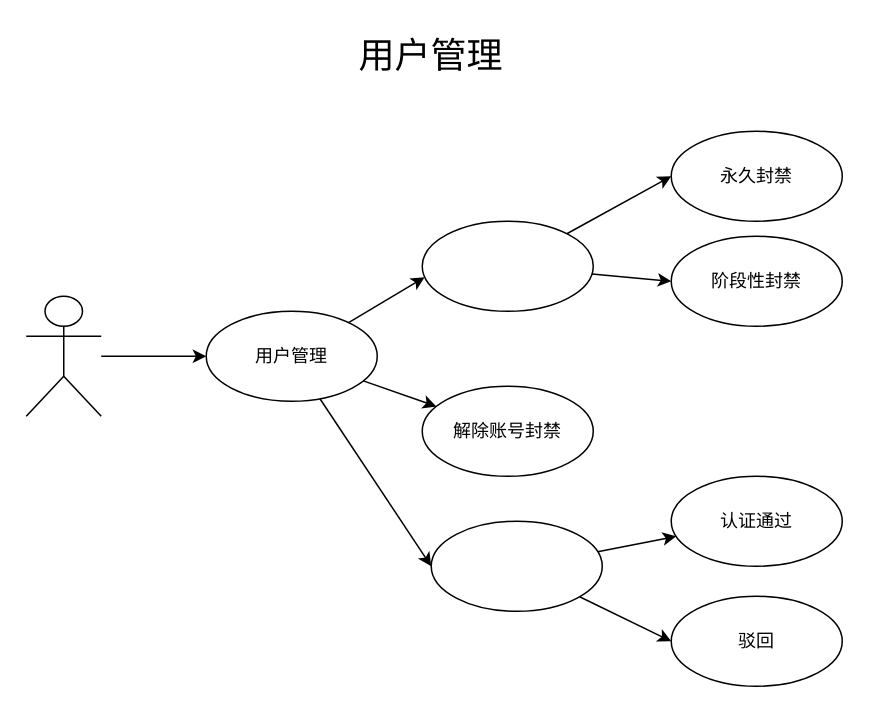
Some shapes in this 869 by 713 pixel diagram are drawn without their labels. The box of each missing label's shape, as (x1, y1, x2, y2) in pixels:
封禁账号: (421, 220, 593, 311)
管理员: (25, 295, 101, 416)
认证审核: (430, 520, 602, 611)
